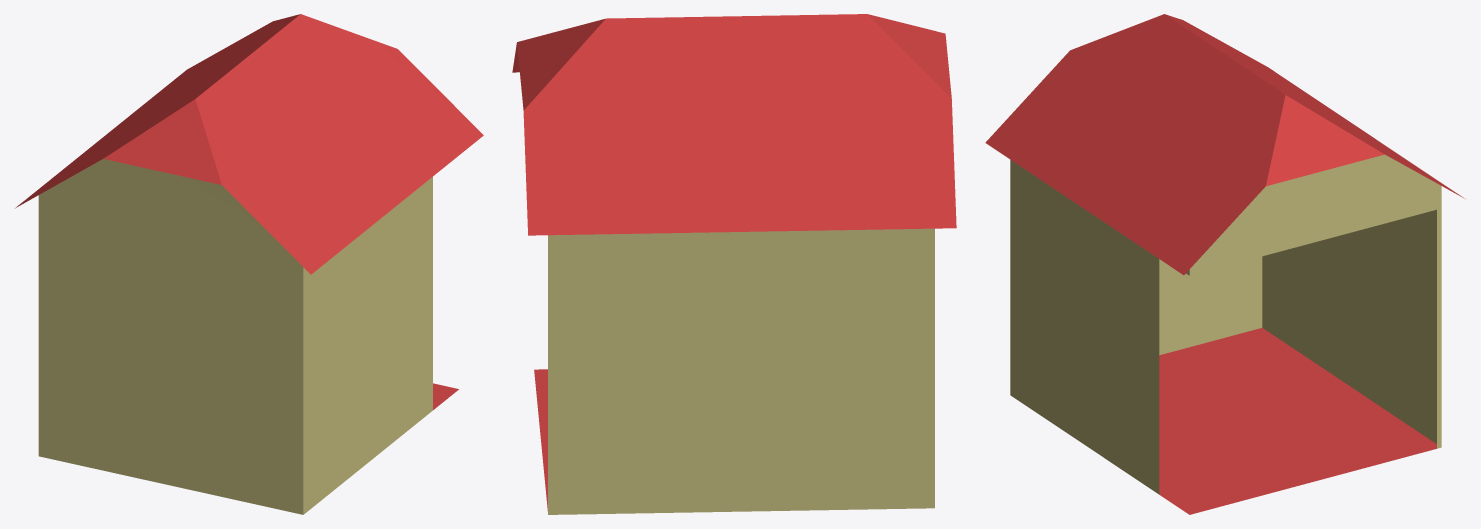
3 renders of one model, left to right at view 1: azimuth 30°, elevation 25°; view 2: azimuth 150°, elevation 25°; view 3: azimuth 270°, elevation 25°, orthographic. The views are drawn at different scales.
Size of the model in its own units: 13.61 by 13.29 by 11.16.
